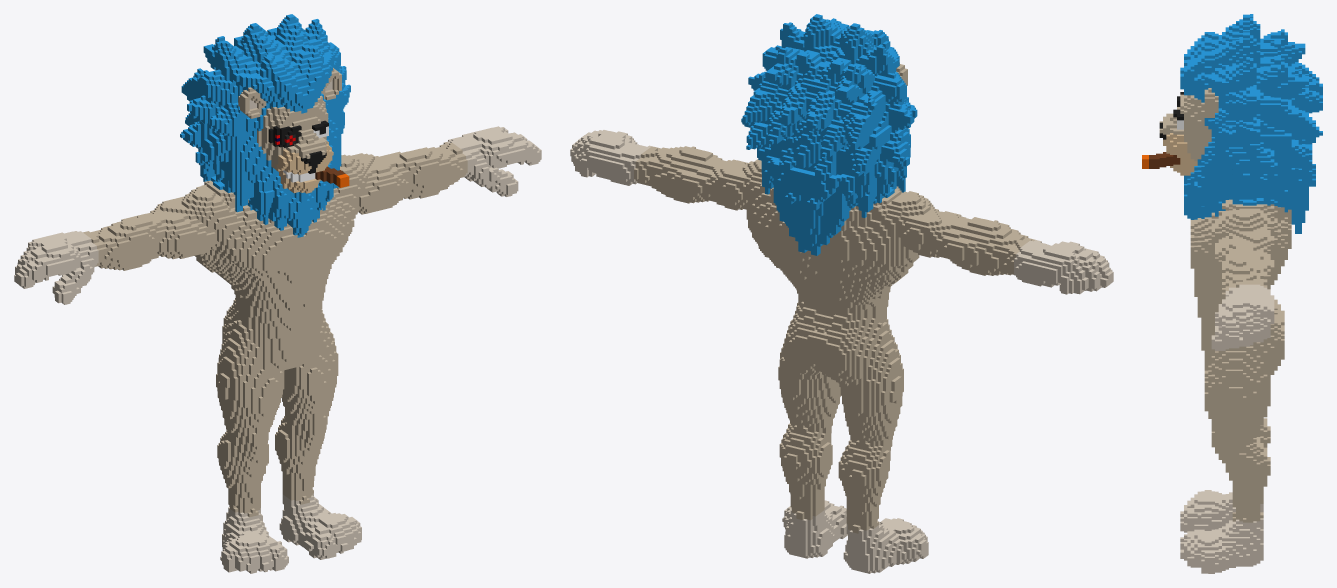
The picture shows the model from 3 angles, left to right: view 1: azimuth 30°, elevation 25°; view 2: azimuth 150°, elevation 25°; view 3: azimuth 270°, elevation 25°; orthographic projection. The views are drawn at different scales.
Parts seen in each view (by area): view 1: cigar; view 2: cigar; view 3: cigar.
Boxes of the visible parts, box(x1,y1,x2,y2) form: cigar: box(14, 14, 541, 573); cigar: box(570, 14, 1113, 573); cigar: box(1142, 14, 1322, 573).
Bounding box in the file's own units: 17.2 × 16.5 × 5.2.
4 materials, 4 textured.
